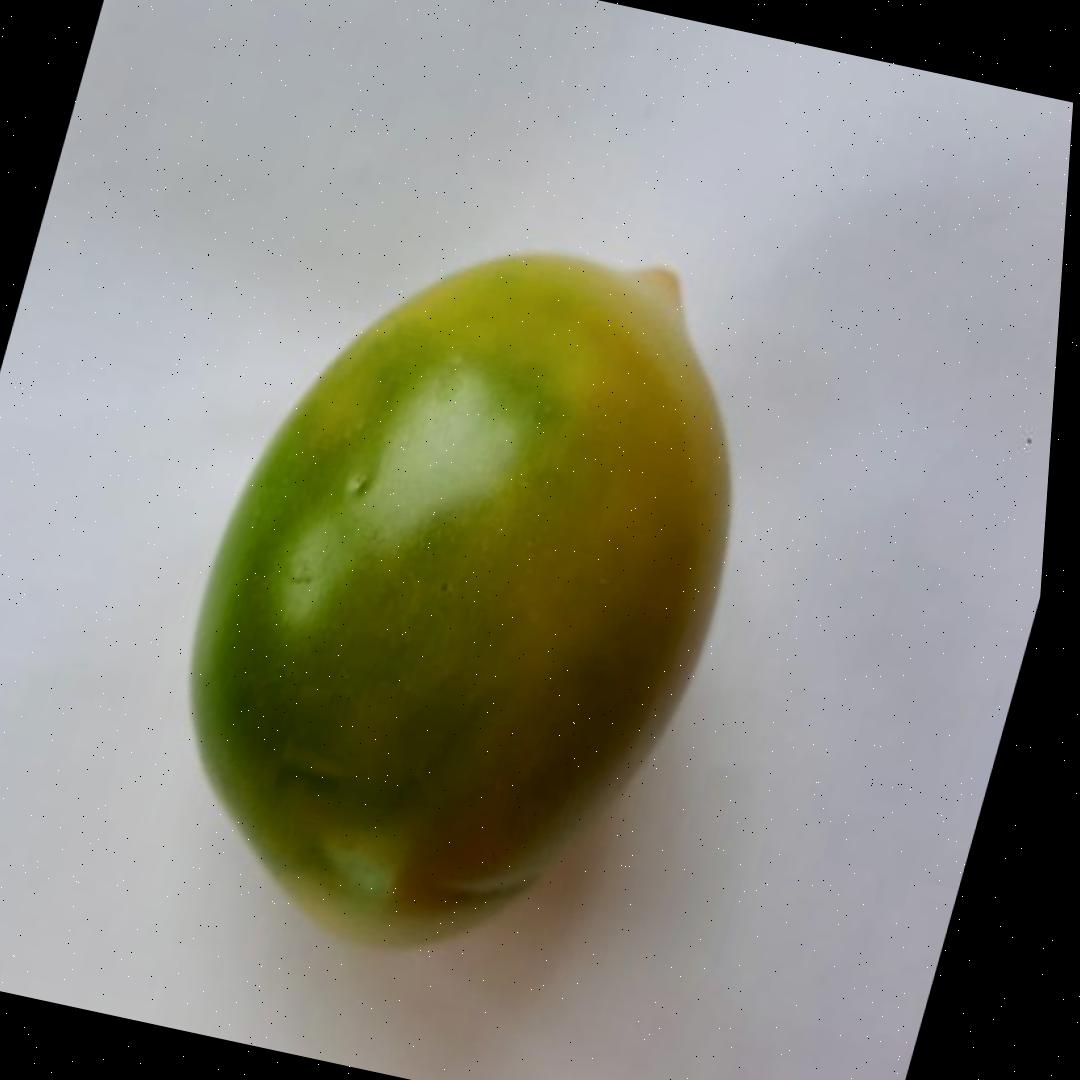setengah_matang: (104, 190, 812, 1006)
